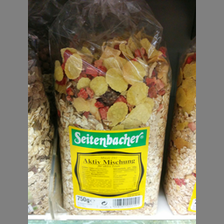cereal: (47, 12, 173, 212)
